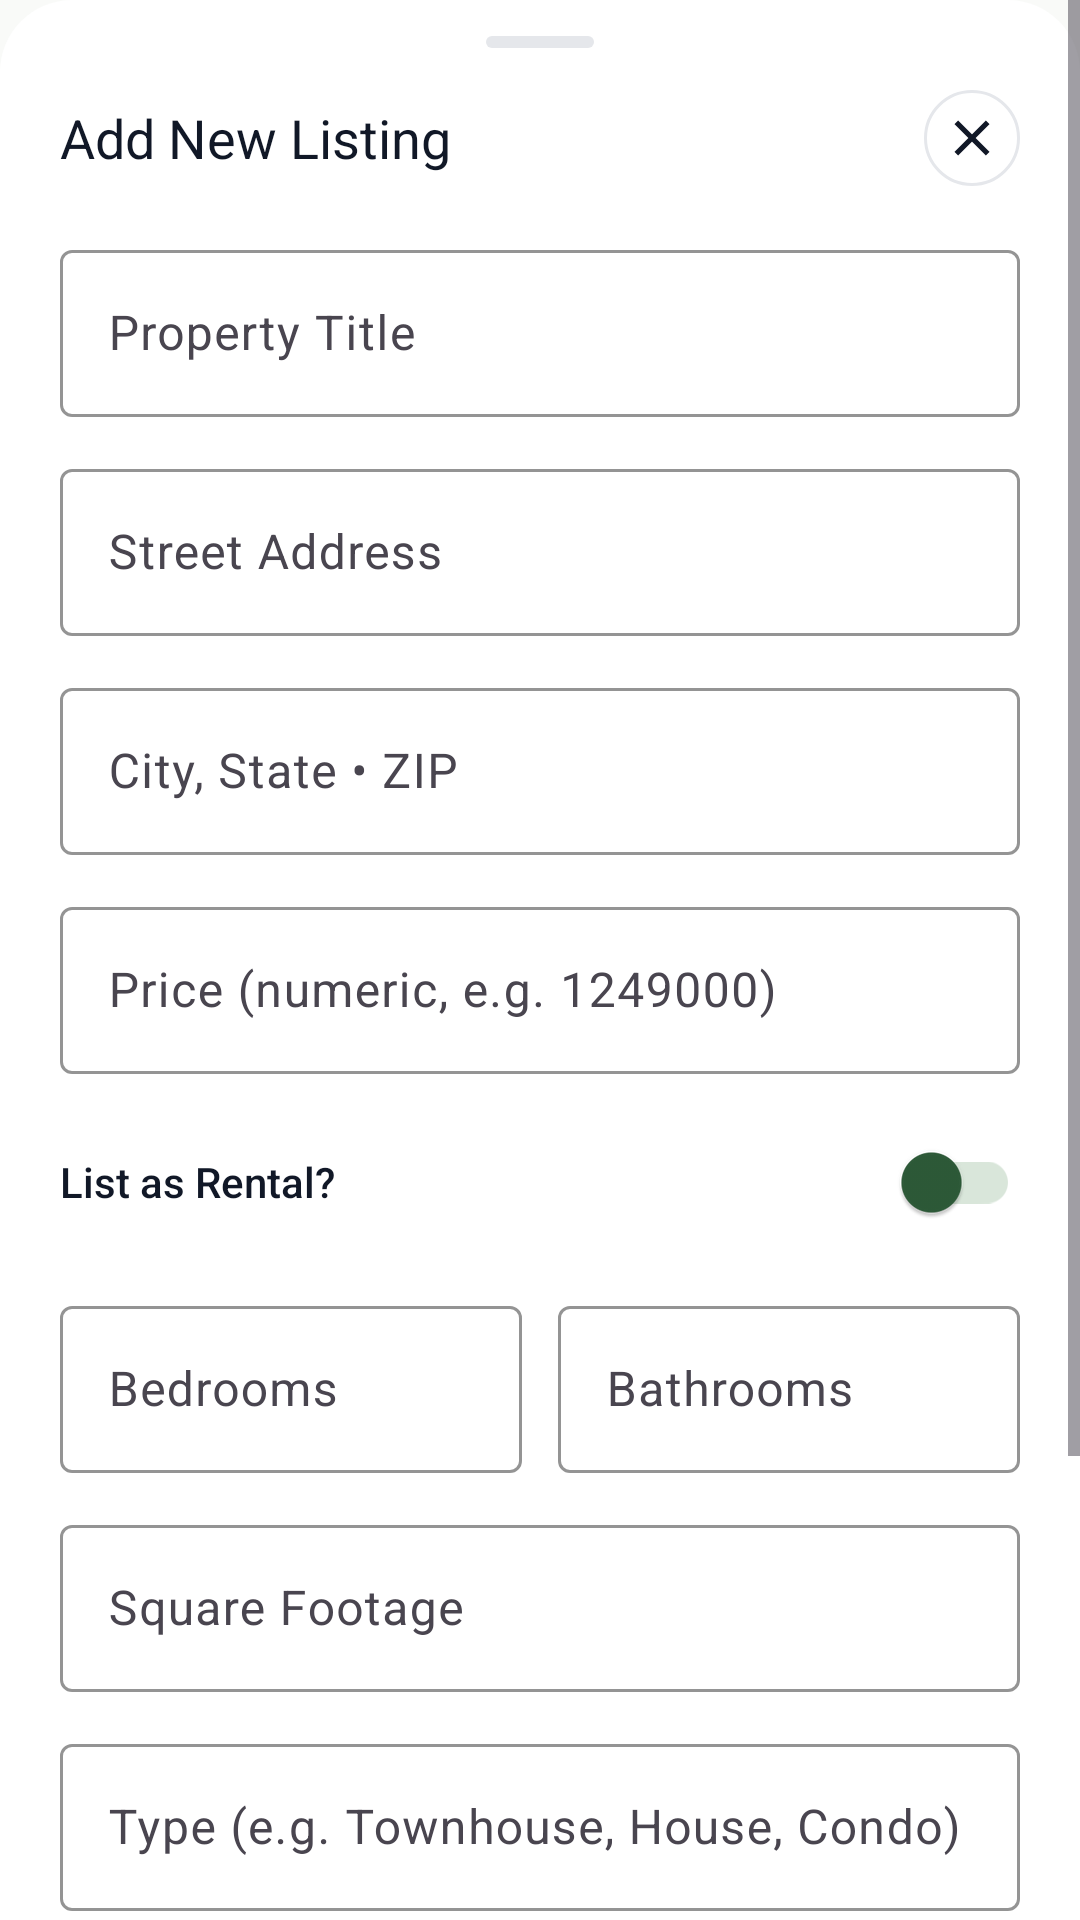

Named icons in this screenshot (1080×1920) and their bounding boxes, [x1, y1, x2, y2]:
Close: [924, 90, 1020, 186]
